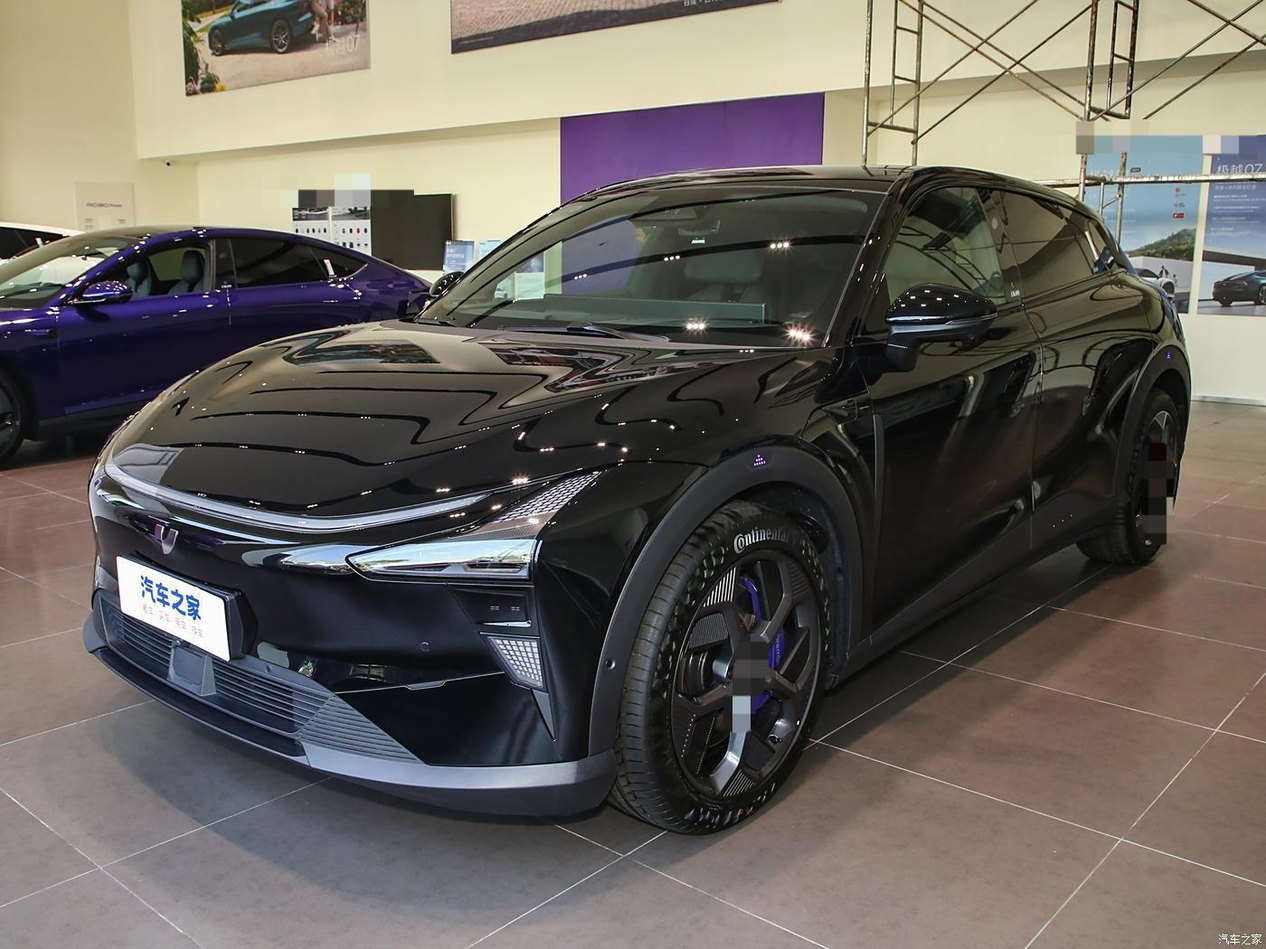JIYUE: (154, 524, 177, 555)
